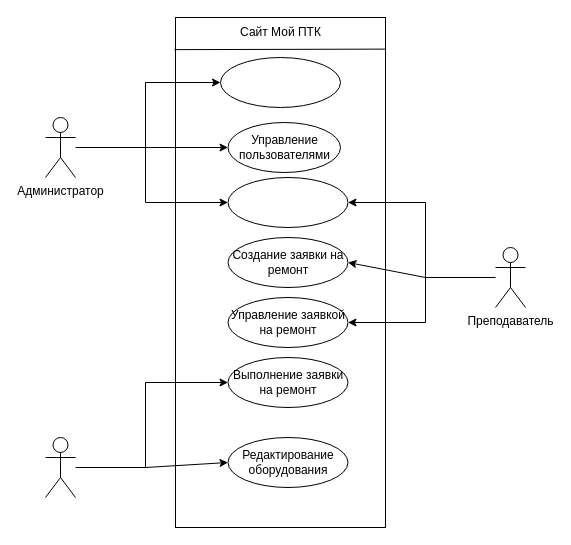
Image size: 571x545. Some labels were removed from this diagram. The centre of each missing label's shape, as x and y in pixels:
Лаборант: [60,467]
Управление заявками регистрации: [280,82]
Управление оборудованием: [287,202]
